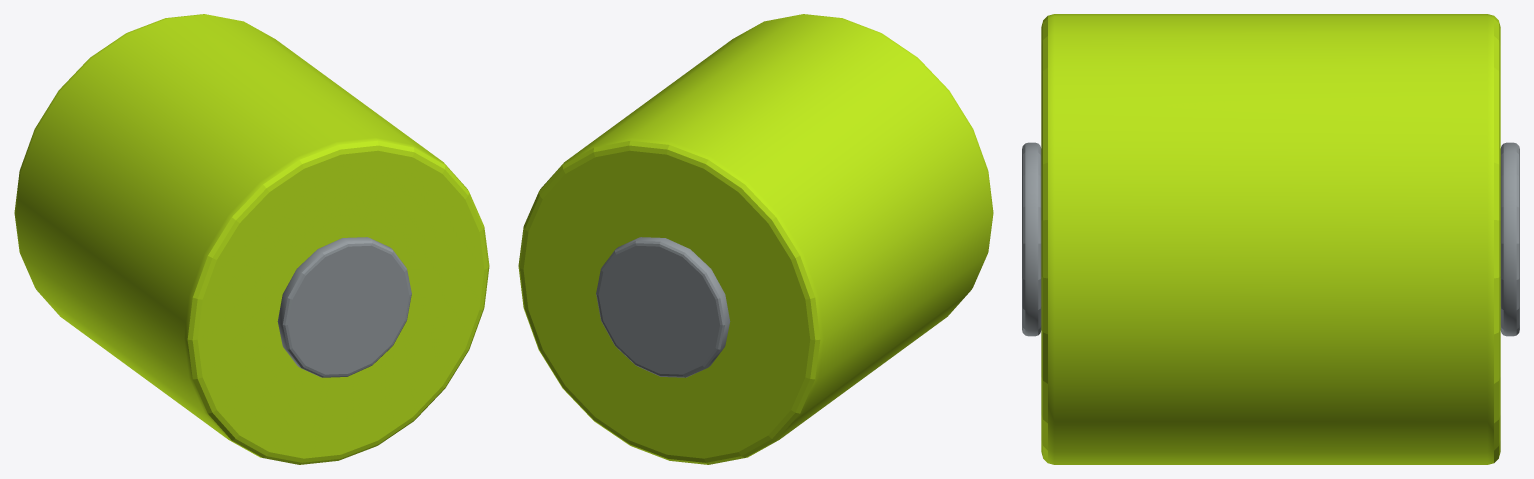
File: SM_JX_LoadRollerL2.fbx
The picture shows the model from 3 angles, left to right: view 1: azimuth 30°, elevation 25°; view 2: azimuth 150°, elevation 25°; view 3: azimuth 270°, elevation 25°; orthographic projection. The views are drawn at different scales.
Visible parts, largest first — view 1: SM_JX_LoadRollerL2; view 2: SM_JX_LoadRollerL2; view 3: SM_JX_LoadRollerL2.
Boxes of the visible parts, <box> form: SM_JX_LoadRollerL2: <box>14,14,489,464</box>; SM_JX_LoadRollerL2: <box>518,14,993,464</box>; SM_JX_LoadRollerL2: <box>1022,14,1519,464</box>.
Bounding box in the file's own units: 7.7 × 7 × 7.
